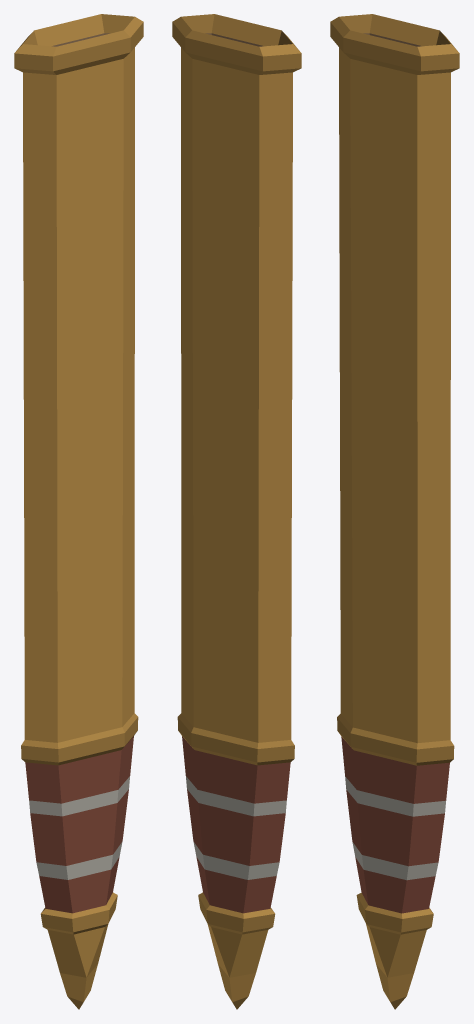
File: SM_pwe_rome_sword_scabbard_02.fbx
3 views of the same model, side by side, from view 1: azimuth 30°, elevation 25°; view 2: azimuth 150°, elevation 25°; view 3: azimuth 330°, elevation 25° (orthographic).
Visible parts, largest first — view 1: SM_pwe_rome_sword_scabbard_02; view 2: SM_pwe_rome_sword_scabbard_02; view 3: SM_pwe_rome_sword_scabbard_02.
Boxes of the visible parts, x1,y1,x2,y2 form: SM_pwe_rome_sword_scabbard_02: (14, 14, 143, 1009); SM_pwe_rome_sword_scabbard_02: (172, 14, 301, 1009); SM_pwe_rome_sword_scabbard_02: (330, 14, 459, 1009).
Size of the model in its own units: 8.97 by 64.85 by 3.09.
